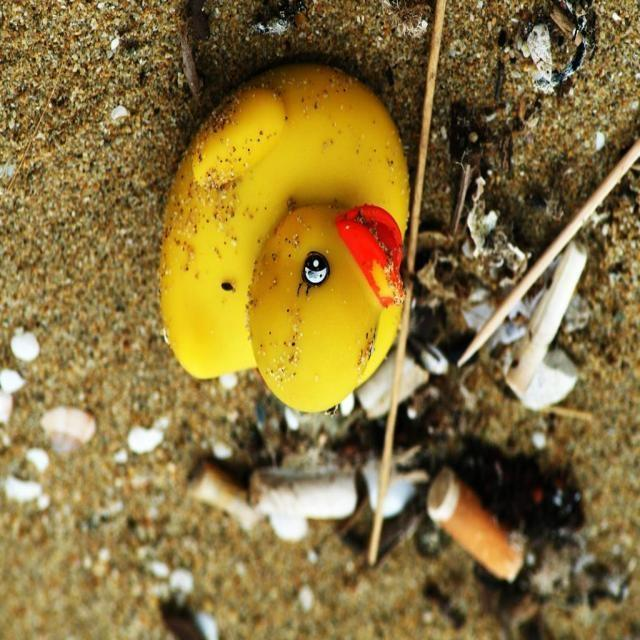rubber-duck: (159, 63, 407, 410)
